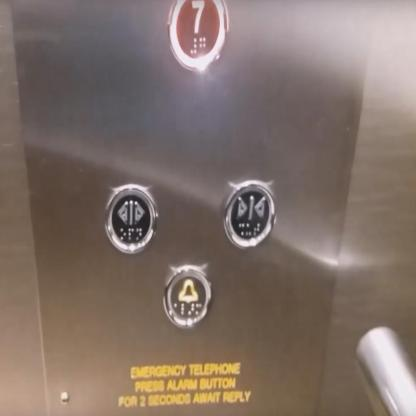7: (165, 1, 229, 75)
alarm: (162, 262, 214, 330)
close: (222, 176, 278, 253)
open: (102, 180, 160, 256)
